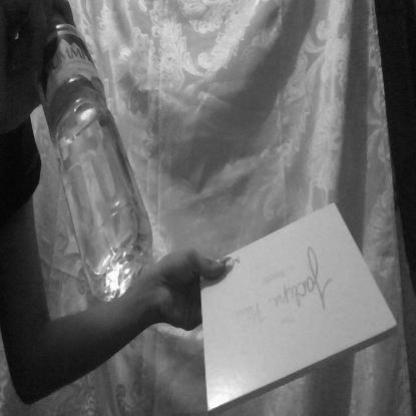Plastic Bottle: (16, 6, 160, 354)
